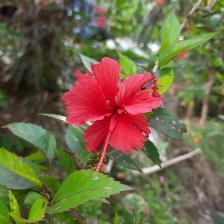hibiscus: (63, 58, 164, 180)
